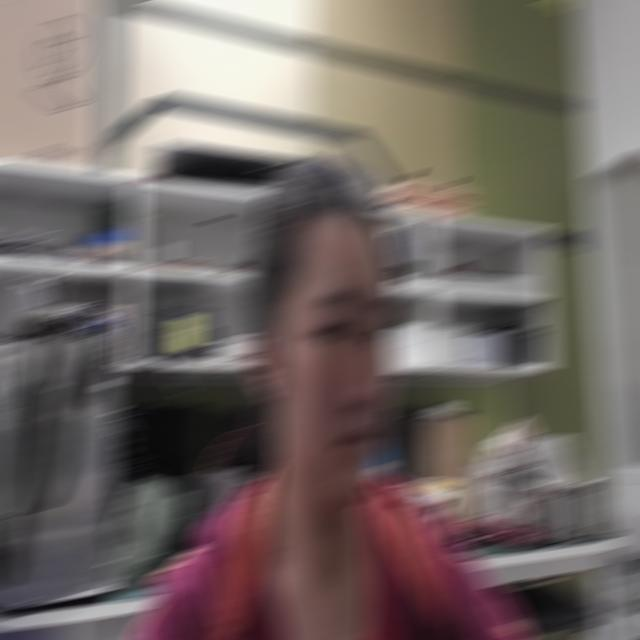Without Helmet: (218, 136, 453, 519)
